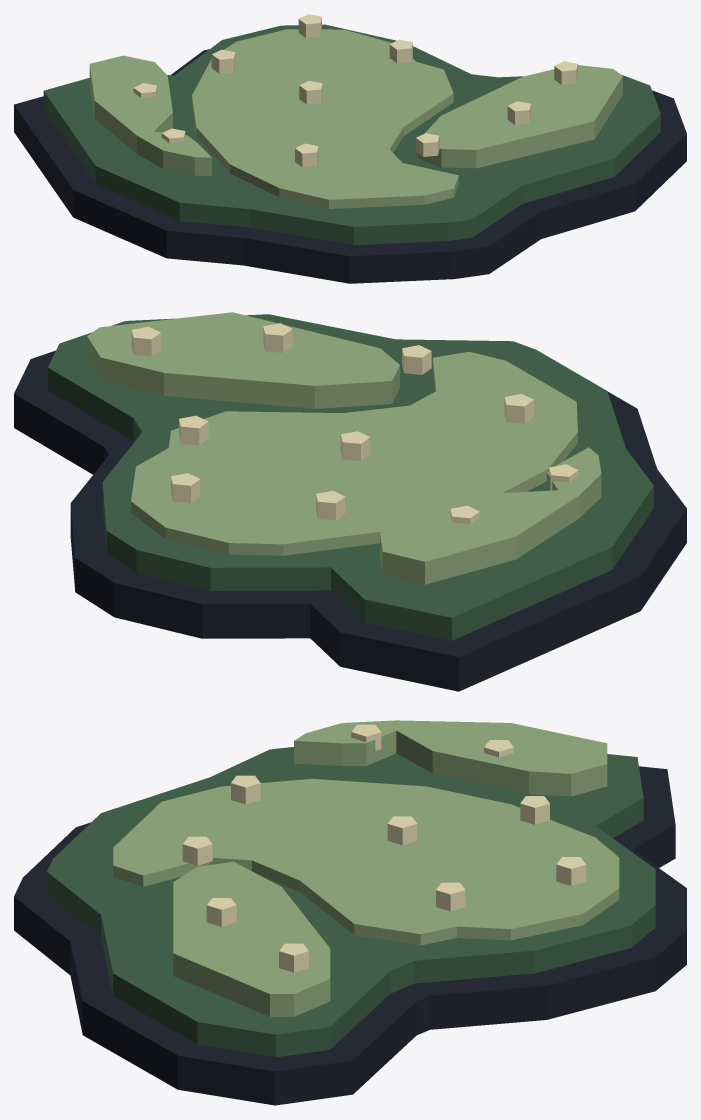
The model's file is cactus.fbx.
3 views of the same model, one above another, from view 1: azimuth 30°, elevation 25°; view 2: azimuth 150°, elevation 25°; view 3: azimuth 270°, elevation 25° (orthographic). The views are drawn at different scales.
Parts seen in each view (by area): view 1: cactus; view 2: cactus; view 3: cactus.
Boxes of the visible parts, x1,y1,x2,y2 form: cactus: [14, 14, 686, 283]; cactus: [14, 312, 686, 691]; cactus: [14, 720, 686, 1105].
Size of the model in its own units: 1.24 by 0.17 by 1.07.
1 material, 1 textured.
